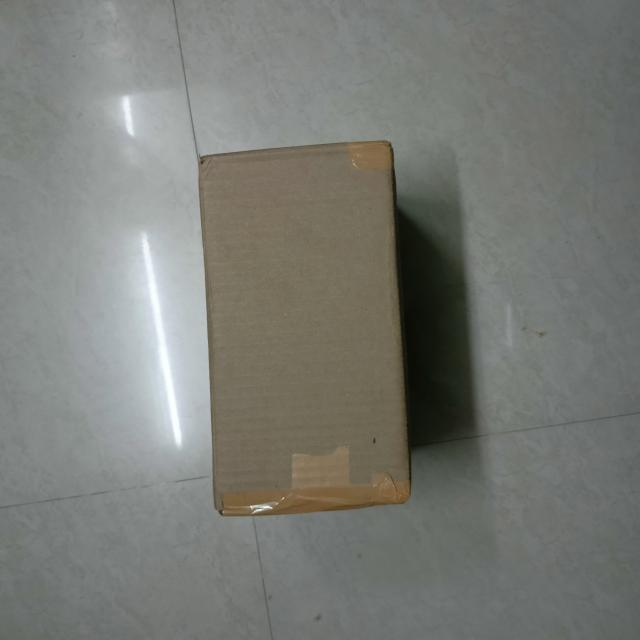box: (203, 144, 408, 517)
